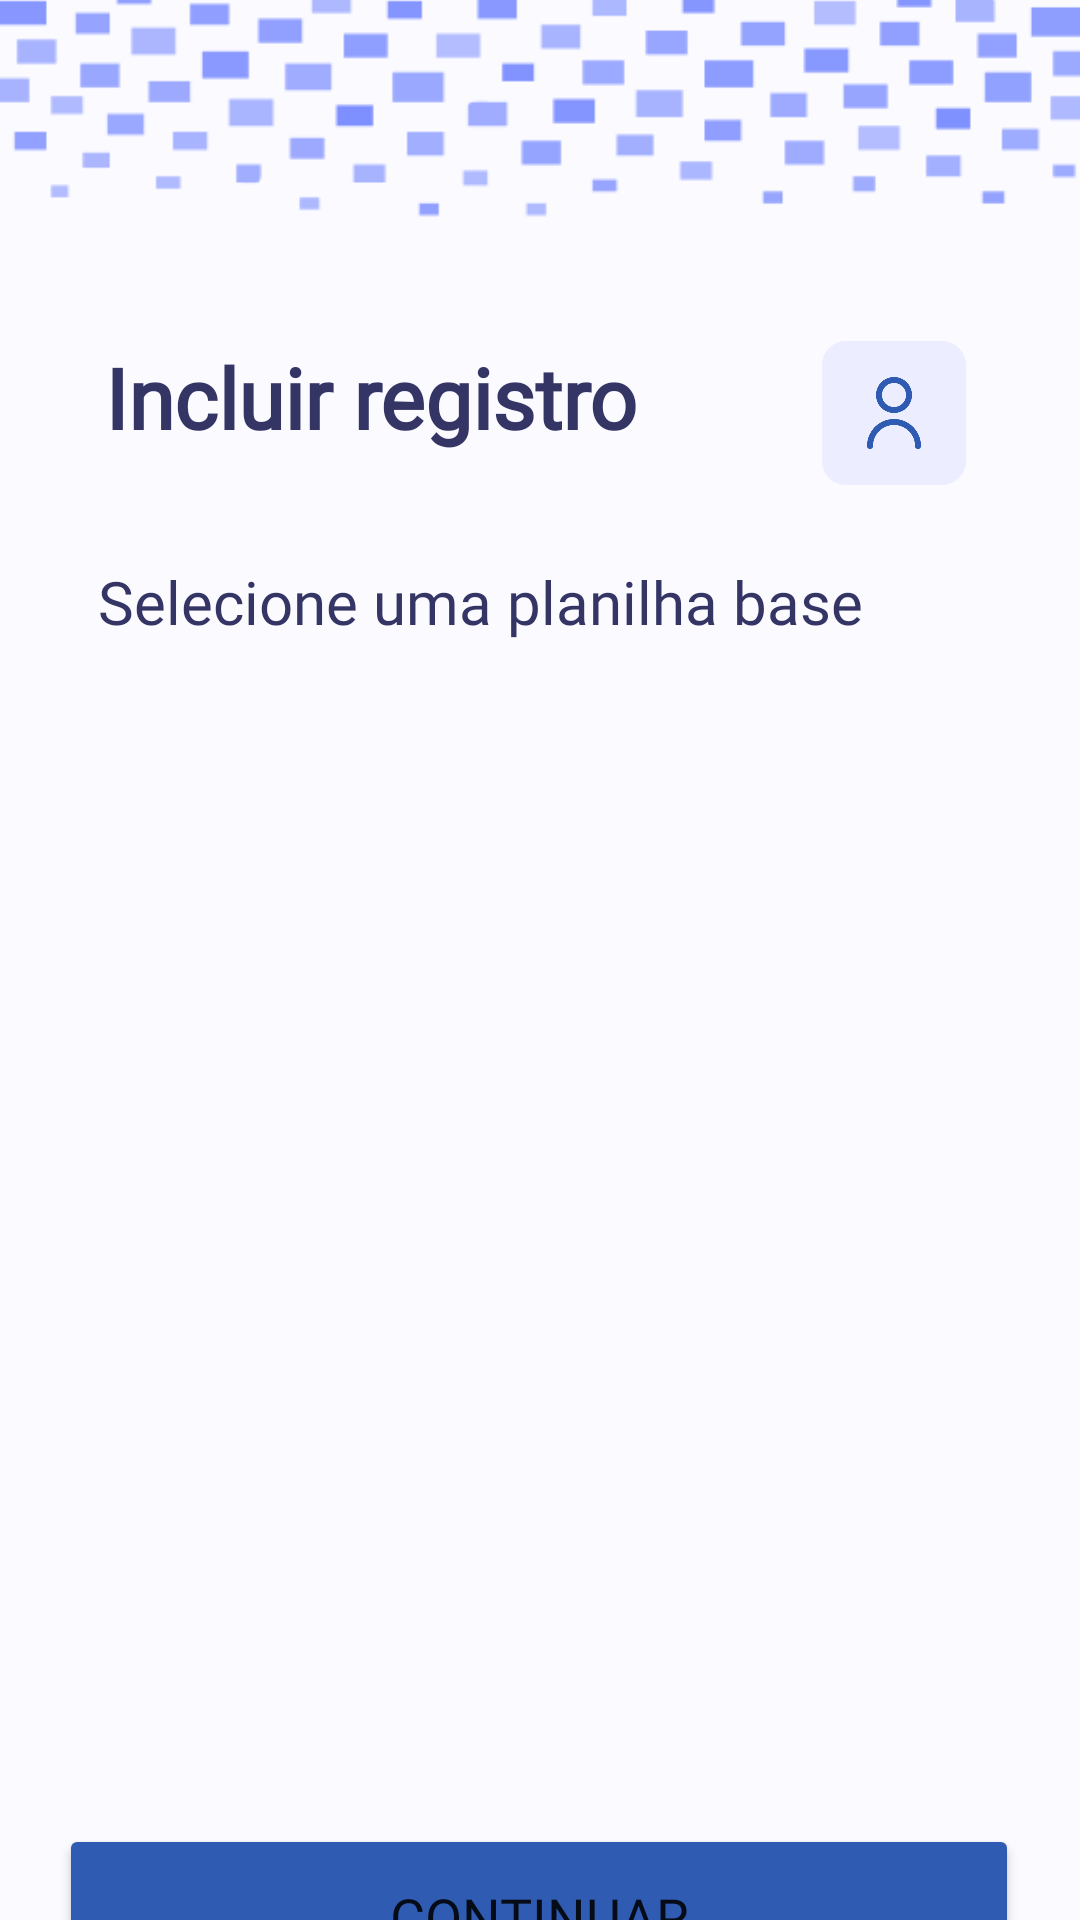

Icons on this 1080×1920 Android screen, each with its box as (x1, y1, x2, y2):
perfil: (822, 341, 966, 485)
